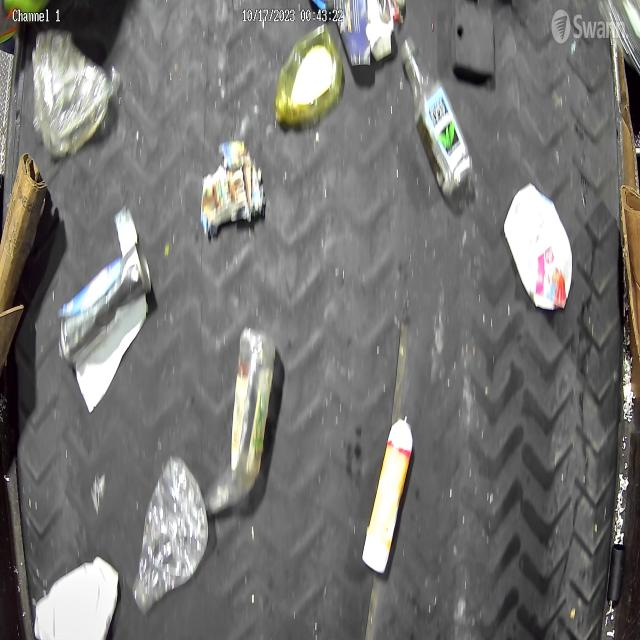can: (57, 242, 152, 364)
non_white_jug: (505, 183, 573, 311)
plastic_bottle: (205, 329, 273, 516), (400, 34, 472, 196), (135, 456, 208, 612)
